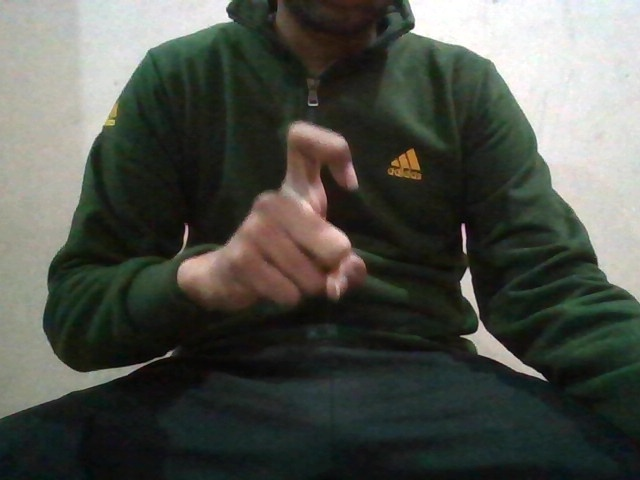P: (224, 115, 371, 309)
